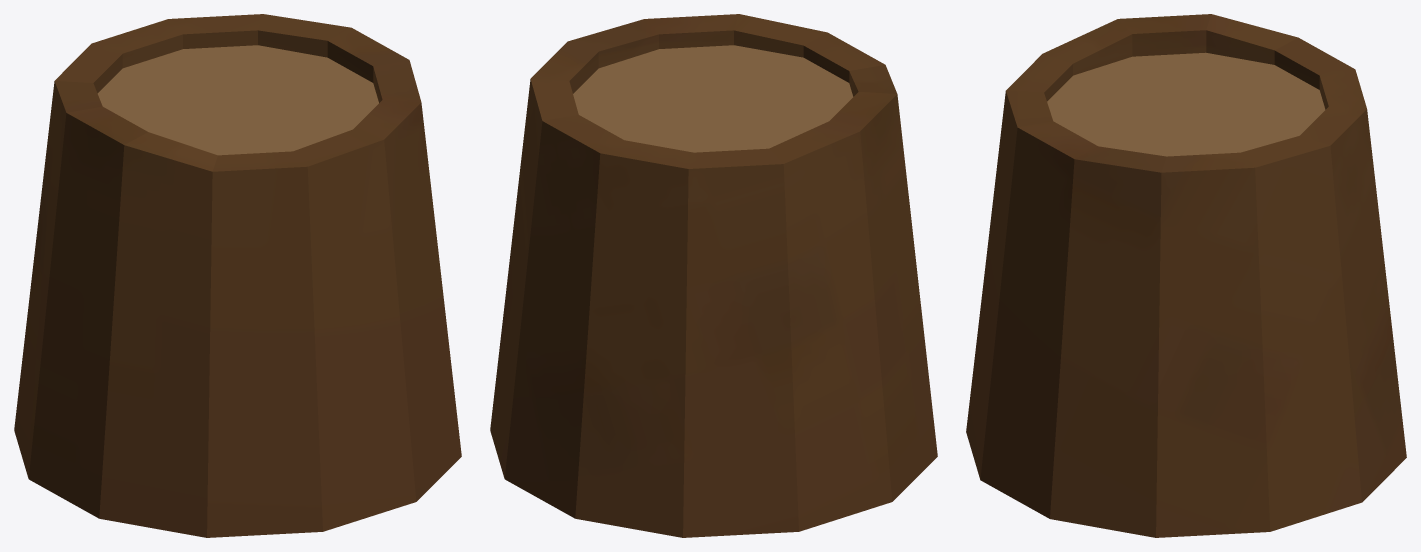
The model's file is Trunks12.gltf.
The picture shows the model from 3 angles, left to right: view 1: azimuth 30°, elevation 25°; view 2: azimuth 150°, elevation 25°; view 3: azimuth 270°, elevation 25°; orthographic projection.
Visible parts, largest first — view 1: Trunk1 - copy.007; view 2: Trunk1 - copy.007; view 3: Trunk1 - copy.007.
Part boxes in pixels (x1,y1,x2,y2): Trunk1 - copy.007: [14, 14, 461, 537]; Trunk1 - copy.007: [490, 14, 937, 537]; Trunk1 - copy.007: [966, 14, 1406, 537].
Bounding box in the file's own units: 0.5436 × 0.4824 × 0.5436.
Materials: 1 (1 with a texture image).
